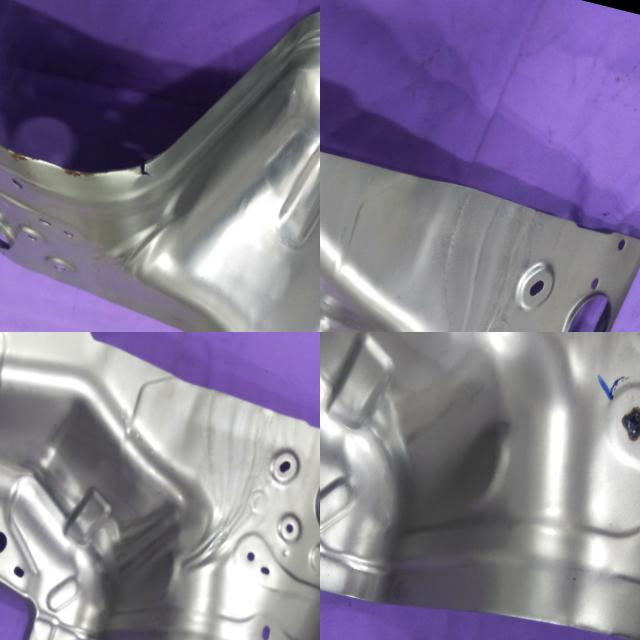Defect: (122, 148, 167, 222), (97, 628, 174, 640)
Healthy: (320, 332, 640, 640)
rust: (0, 139, 117, 190)
